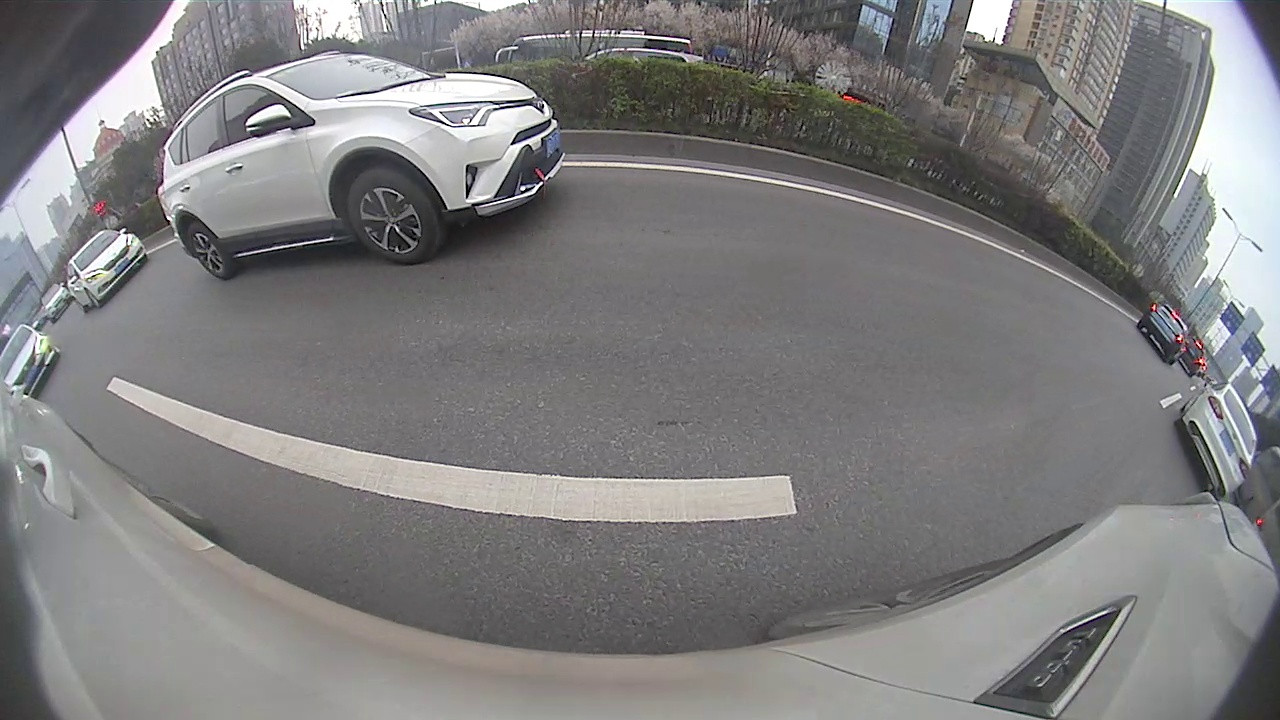car: (159, 50, 568, 283), (1173, 382, 1258, 503), (63, 224, 149, 314), (1, 322, 61, 399), (1136, 299, 1191, 367)
front: (348, 177, 435, 265)
rear: (188, 223, 223, 277)
